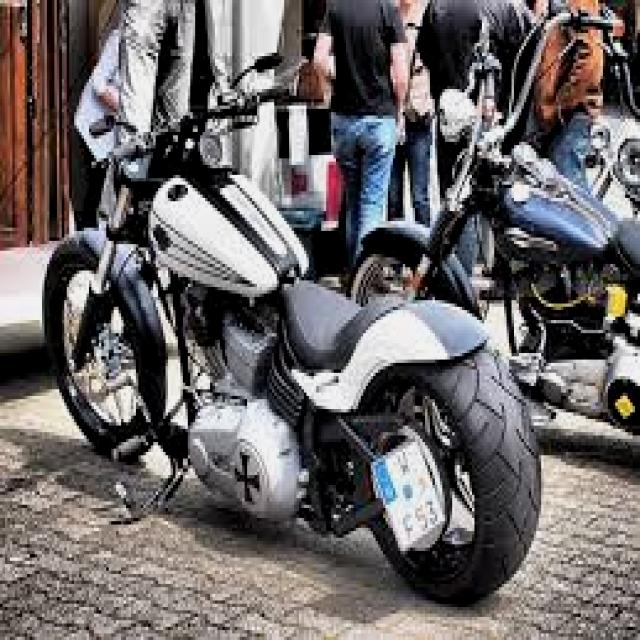MOTORCYCLE: (26, 188, 544, 611), (353, 148, 640, 452)
